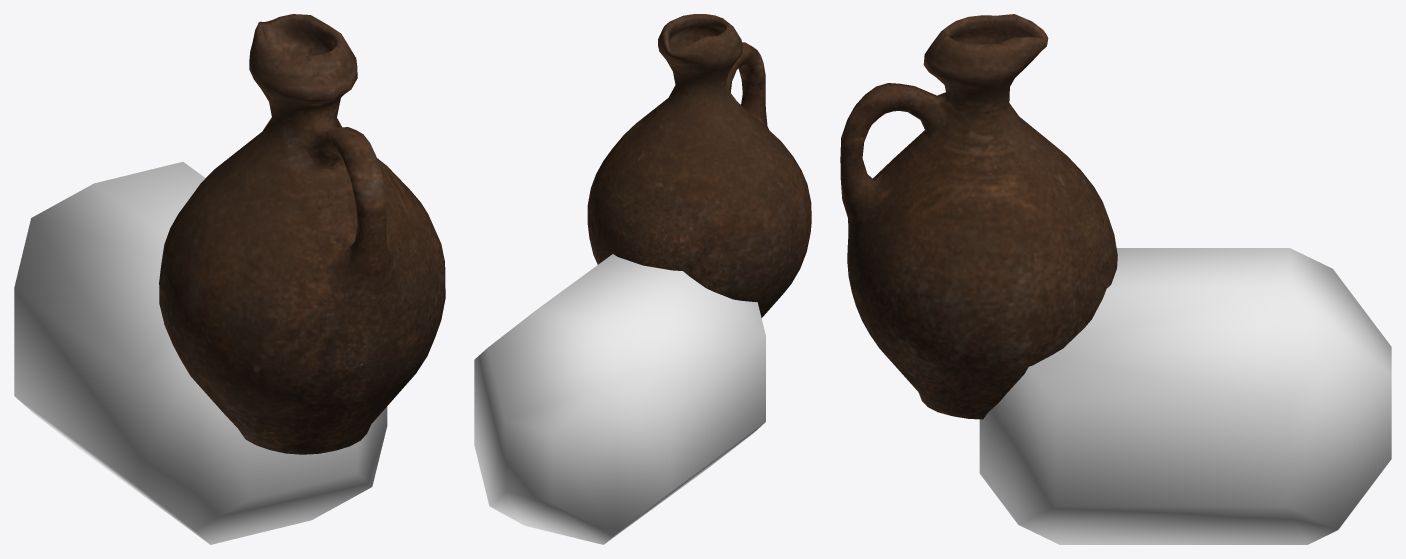
Rendered from SM_Ceramics_A.fbx.
3 views of the same model, side by side, from view 1: azimuth 30°, elevation 25°; view 2: azimuth 150°, elevation 25°; view 3: azimuth 270°, elevation 25° (orthographic). The views are drawn at different scales.
Visible parts, largest first — view 1: SM_Ceramics_A, SM_Ceramics_A_ConvexHulls; view 2: SM_Ceramics_A_ConvexHulls, SM_Ceramics_A; view 3: SM_Ceramics_A_ConvexHulls, SM_Ceramics_A.
Part boxes in pixels (x1,y1,x2,y2): SM_Ceramics_A: (159,14,445,454); SM_Ceramics_A_ConvexHulls: (14,162,387,544); SM_Ceramics_A_ConvexHulls: (474,254,765,544); SM_Ceramics_A: (587,14,811,317); SM_Ceramics_A_ConvexHulls: (979,248,1391,544); SM_Ceramics_A: (840,14,1117,419).
Bounding box in the file's own units: 0.2632 × 0.5332 × 0.5367.
